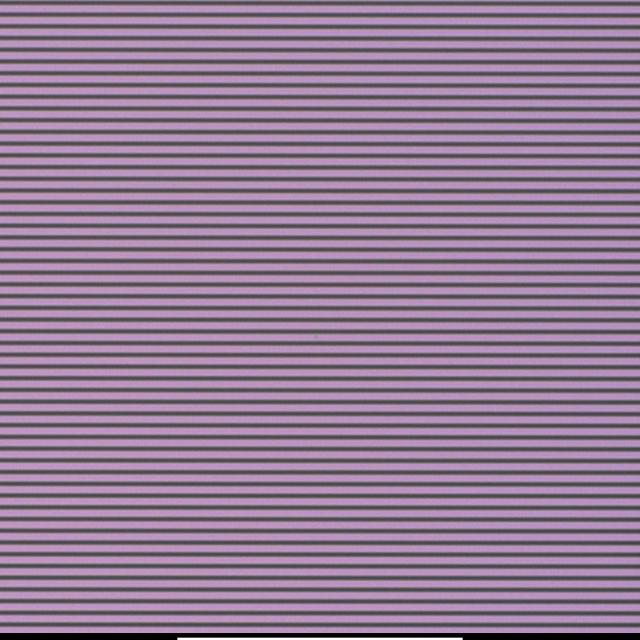nonvisual: (311, 330, 322, 340)
